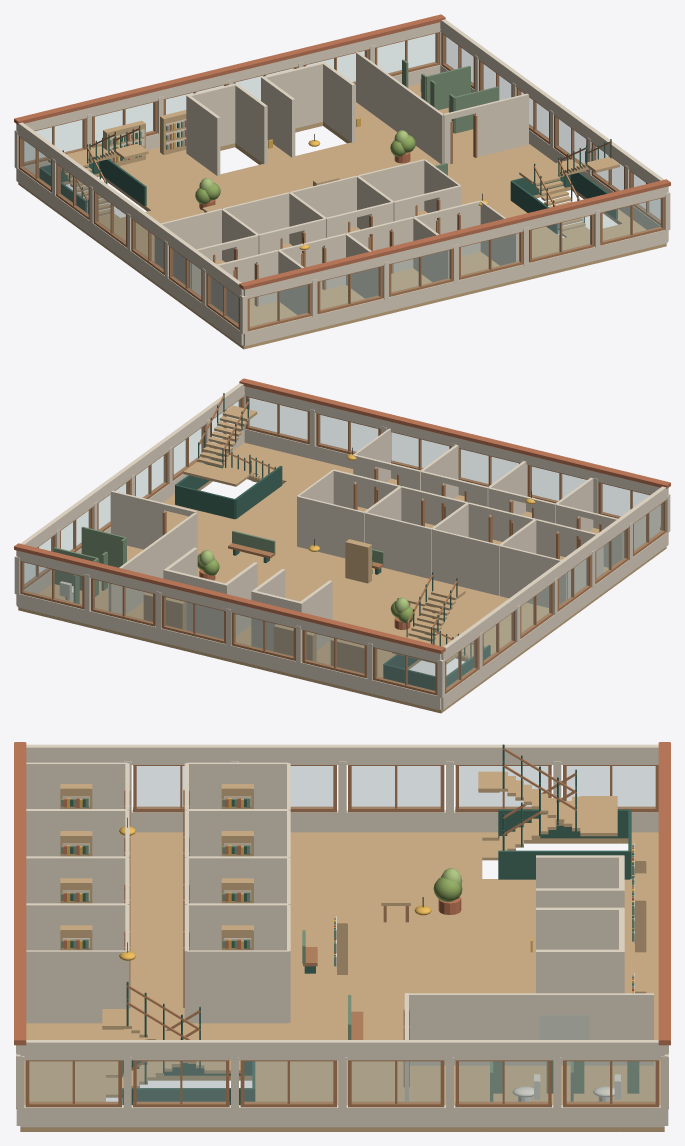
The model's file is campus-4F.glb.
The picture shows the model from 3 angles, top to bottom: view 1: azimuth 30°, elevation 25°; view 2: azimuth 150°, elevation 25°; view 3: azimuth 270°, elevation 25°; orthographic projection. The views are drawn at different scales.
Parts seen in each view (by area): view 1: Inside_cream_4F, Shell_cream_4F, Inside_oak_4F, Shell_glass_4F, Shell_wood_4F, Shell_clay_4F, Inside_deep_4F, Inside_sage_4F, Inside_wood_4F, Inside_leaf_4F; view 2: Inside_cream_4F, Shell_cream_4F, Inside_oak_4F, Shell_glass_4F, Shell_wood_4F, Shell_clay_4F, Inside_deep_4F, Inside_sage_4F, Inside_wood_4F, Inside_leaf_4F; view 3: Inside_oak_4F, Inside_cream_4F, Shell_cream_4F, Shell_glass_4F, Shell_wood_4F, Shell_clay_4F, Inside_deep_4F, Inside_wood_4F, Inside_sage_4F, Inside_glass_4F, Inside_ochre_4F, Inside_clay_4F (+1 smaller).
Part boxes in pixels (bbox=[...]): Inside_cream_4F: bbox=[109, 52, 528, 323]; Shell_cream_4F: bbox=[14, 19, 670, 345]; Inside_oak_4F: bbox=[18, 83, 666, 349]; Shell_glass_4F: bbox=[21, 34, 661, 327]; Shell_wood_4F: bbox=[18, 32, 664, 331]; Shell_clay_4F: bbox=[14, 14, 670, 289]; Inside_deep_4F: bbox=[39, 123, 617, 233]; Inside_sage_4F: bbox=[109, 59, 498, 175]; Inside_wood_4F: bbox=[76, 114, 611, 306]; Inside_leaf_4F: bbox=[195, 135, 415, 204]; Inside_cream_4F: bbox=[108, 428, 659, 650]; Shell_cream_4F: bbox=[14, 383, 670, 709]; Inside_oak_4F: bbox=[18, 405, 666, 713]; Shell_glass_4F: bbox=[23, 398, 663, 691]; Shell_wood_4F: bbox=[20, 396, 666, 695]; Shell_clay_4F: bbox=[14, 378, 670, 653]; Inside_deep_4F: bbox=[175, 393, 490, 690]; Inside_sage_4F: bbox=[53, 526, 383, 603]; Inside_wood_4F: bbox=[162, 395, 601, 644]; Inside_leaf_4F: bbox=[197, 553, 414, 623]; Inside_oak_4F: bbox=[20, 771, 664, 1131]; Inside_cream_4F: bbox=[26, 762, 653, 1101]; Shell_cream_4F: bbox=[16, 744, 668, 1127]; Shell_glass_4F: bbox=[29, 766, 655, 1102]; Shell_wood_4F: bbox=[25, 765, 659, 1107]; Shell_clay_4F: bbox=[14, 742, 670, 1045]; Inside_deep_4F: bbox=[70, 744, 634, 1104]; Inside_wood_4F: bbox=[124, 748, 576, 1086]; Inside_sage_4F: bbox=[61, 798, 639, 1101]; Inside_glass_4F: bbox=[539, 1015, 589, 1039]; Inside_ochre_4F: bbox=[67, 798, 634, 993]; Inside_clay_4F: bbox=[64, 798, 634, 991].
Bounding box in the file's own units: 26.3 × 4.94 × 24.46.
